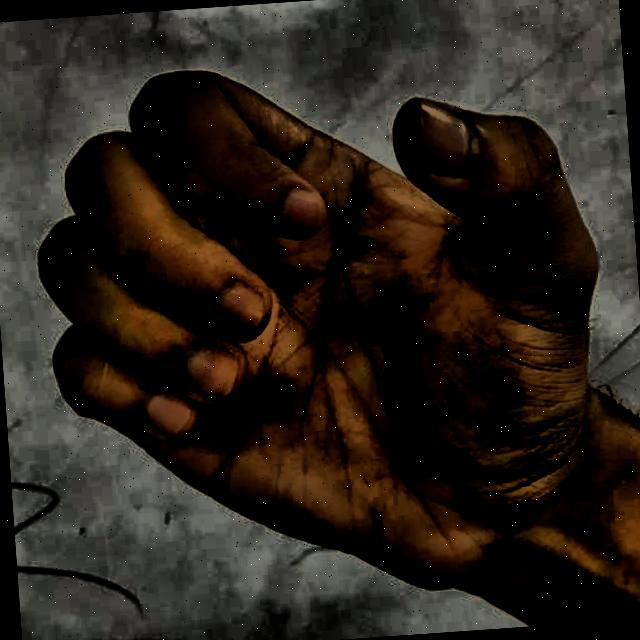Dho: (13, 10, 632, 637)
